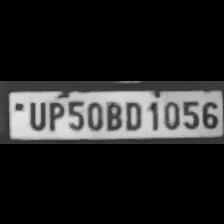0: (84, 97, 104, 130), (160, 97, 180, 129)
1: (144, 97, 160, 130)
5: (180, 96, 200, 130), (64, 97, 84, 130)
6: (198, 97, 220, 128)
B: (104, 97, 122, 130)
D: (122, 97, 144, 130)
P: (46, 98, 64, 132)
U: (24, 98, 46, 130)
